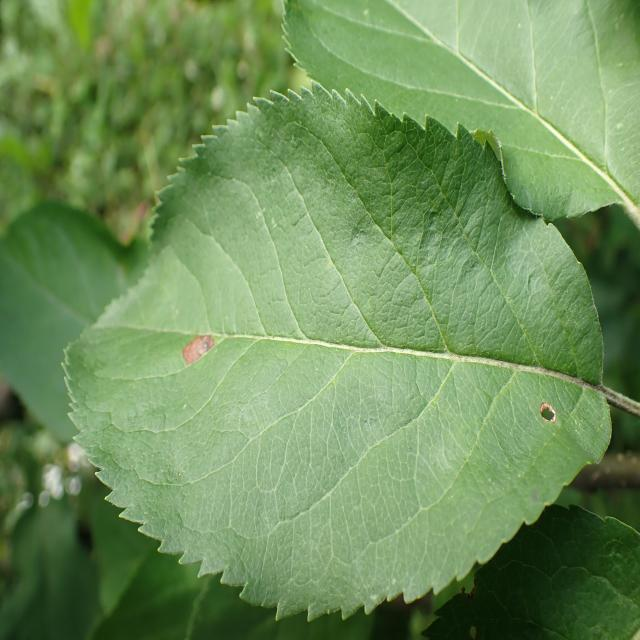Black Rot: (533, 372, 566, 453), (181, 314, 222, 376)
